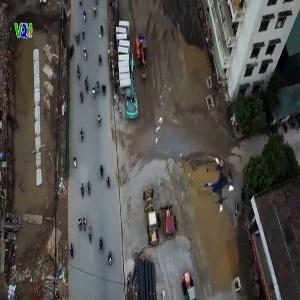drone: (183, 158, 243, 218)
